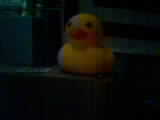duck: (61, 16, 109, 69)
